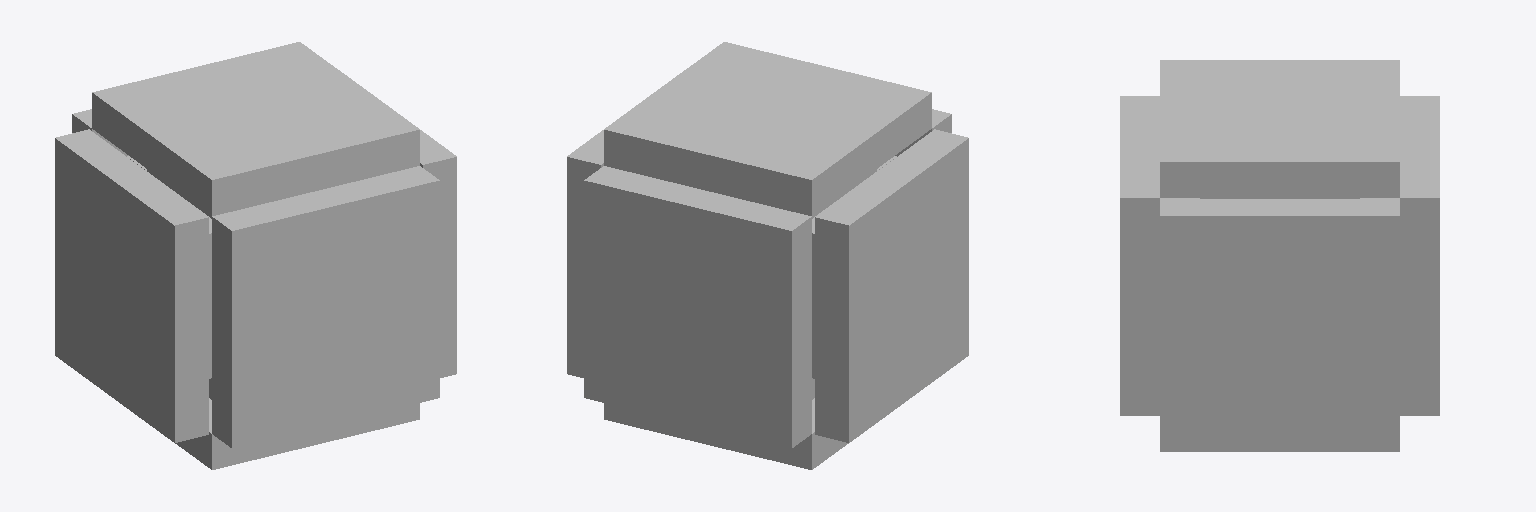
3 renders of one model, left to right at view 1: azimuth 30°, elevation 25°; view 2: azimuth 150°, elevation 25°; view 3: azimuth 270°, elevation 25°, orthographic.
Visible parts, largest first — view 1: con_zMax, con_xMin, con_yMax, con_xMax, con_yMin; view 2: con_zMin, con_xMin, con_yMax, con_xMax, con_yMin; view 3: con_xMax, con_yMax, con_zMin, con_zMax, con_yMin.
Boxes of the visible parts, x1=… form: con_zMax: x1=212, y1=166, x2=439, y2=448; con_xMin: x1=55, y1=129, x2=208, y2=442; con_yMax: x1=92, y1=42, x2=419, y2=215; con_xMax: x1=339, y1=70, x2=456, y2=377; con_yMin: x1=175, y1=398, x2=419, y2=469; con_zMin: x1=584, y1=166, x2=811, y2=448; con_xMin: x1=815, y1=129, x2=968, y2=442; con_yMax: x1=604, y1=42, x2=931, y2=215; con_xMax: x1=567, y1=70, x2=684, y2=377; con_yMin: x1=604, y1=398, x2=848, y2=469; con_xMax: x1=1160, y1=199, x2=1399, y2=433; con_yMax: x1=1160, y1=60, x2=1399, y2=197; con_zMin: x1=1400, y1=96, x2=1439, y2=415; con_zMax: x1=1120, y1=96, x2=1159, y2=415; con_yMin: x1=1160, y1=434, x2=1399, y2=451.
Bounding box in the file's own units: 1.02 × 1 × 1.